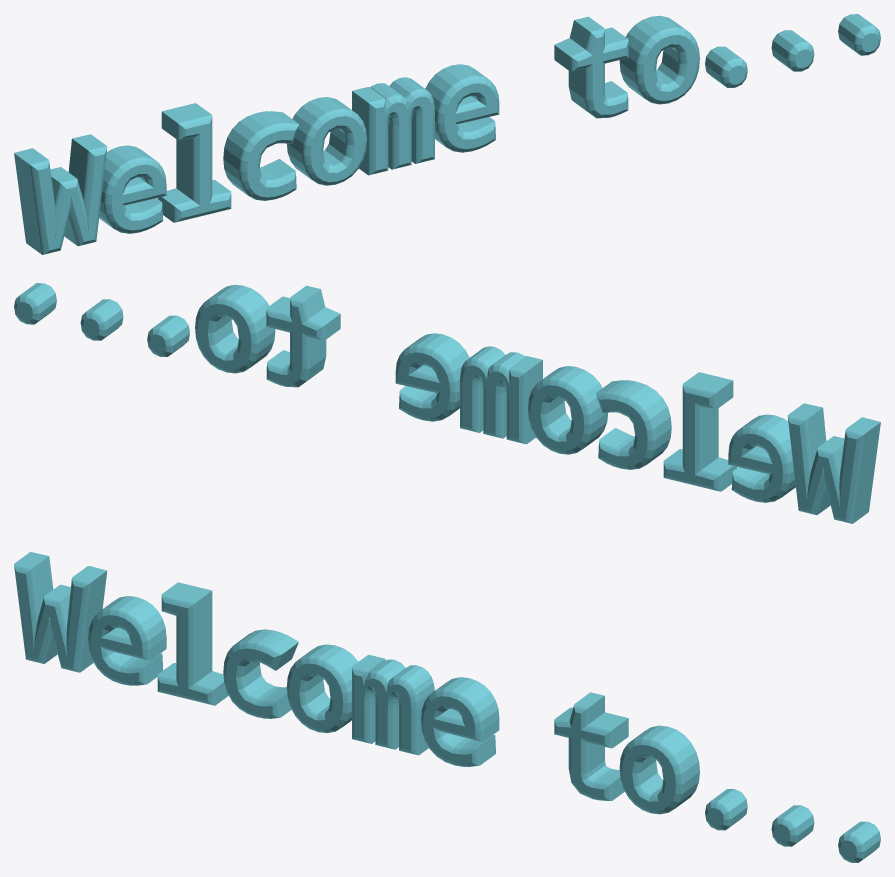
Rendered from welcome.obj.
3 renders of one model, top to bottom at view 1: azimuth 30°, elevation 25°; view 2: azimuth 150°, elevation 25°; view 3: azimuth 330°, elevation 25°, orthographic.
Visible parts, largest first — view 1: obj_0; view 2: obj_0; view 3: obj_0.
Boxes of the visible parts, x1,y1,x2,y2 form: obj_0: (14, 14, 880, 254); obj_0: (14, 283, 880, 523); obj_0: (14, 552, 880, 862).
Bounding box in the file's own units: 213 × 24.05 × 9.31.
